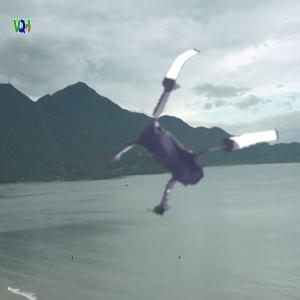drone: (89, 47, 288, 246)
